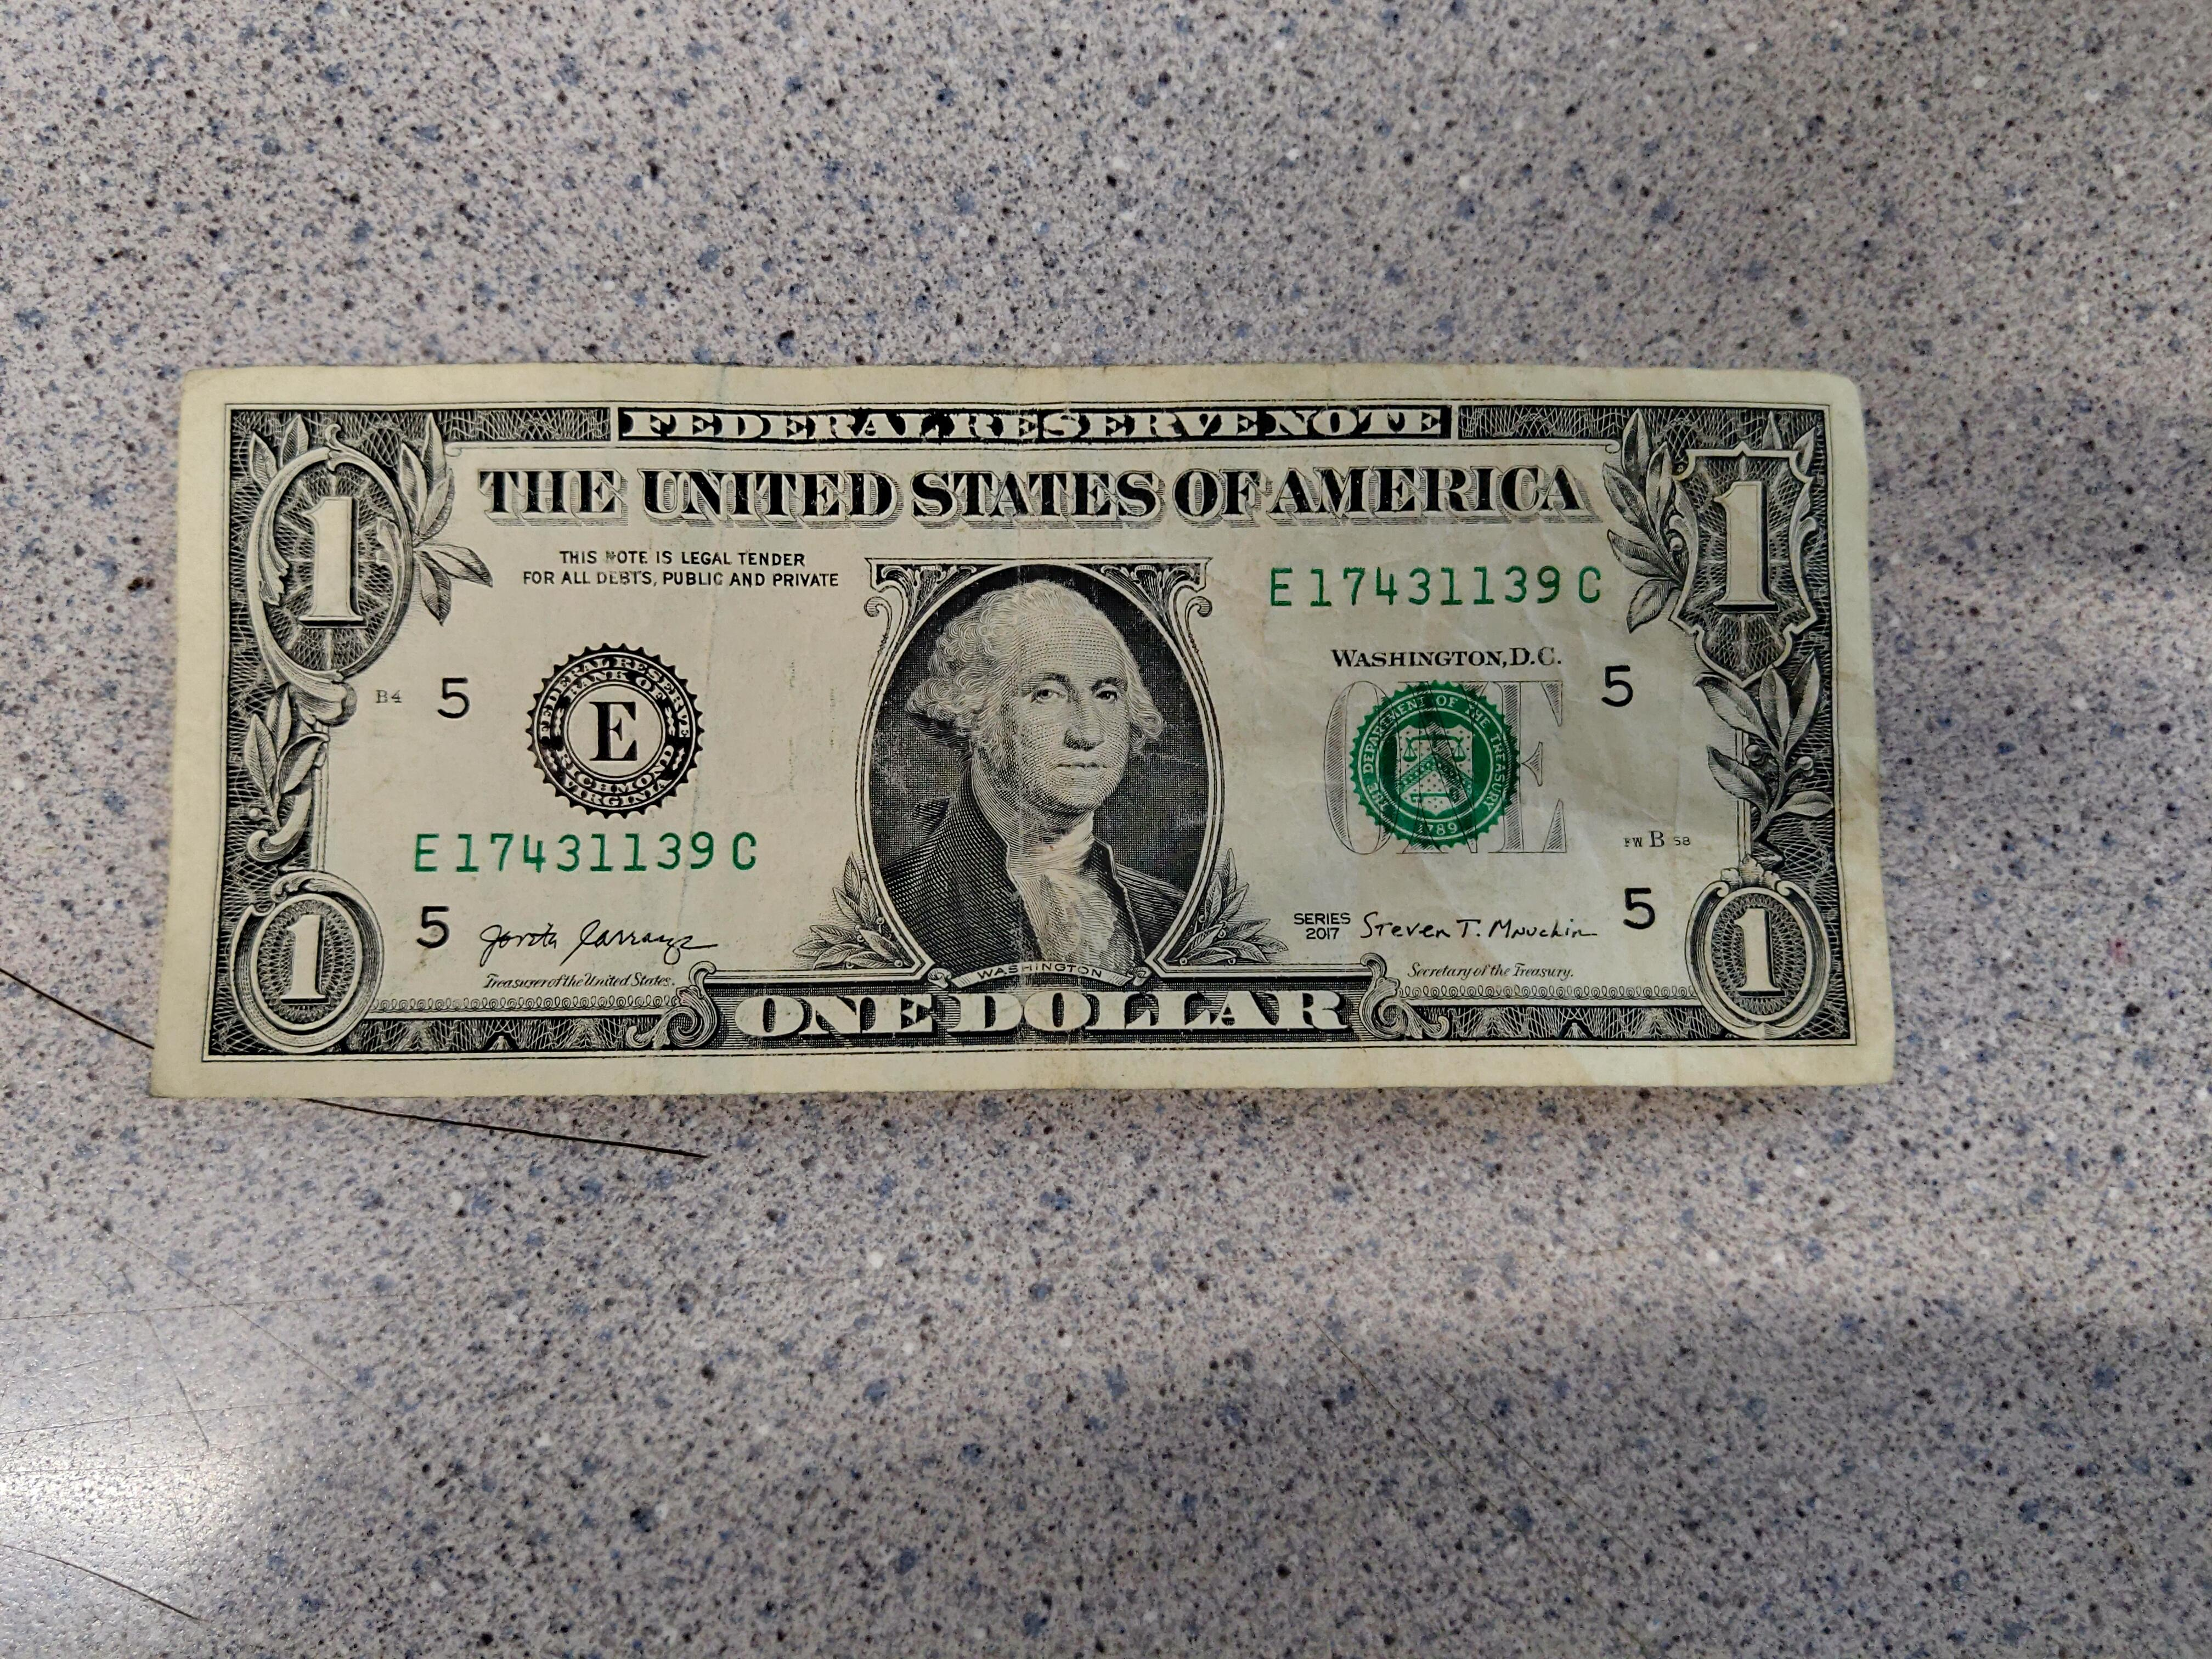OneBill: (146, 354, 1905, 1103)
